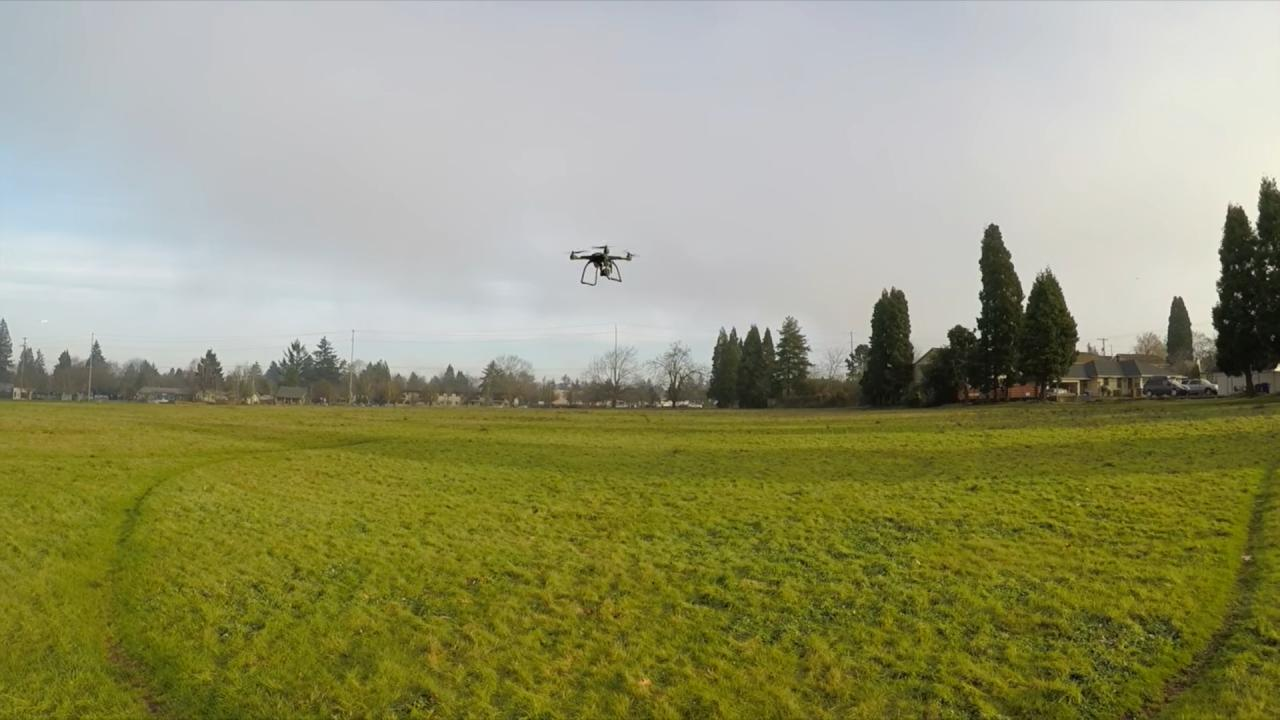Drone: (556, 236, 648, 295)
